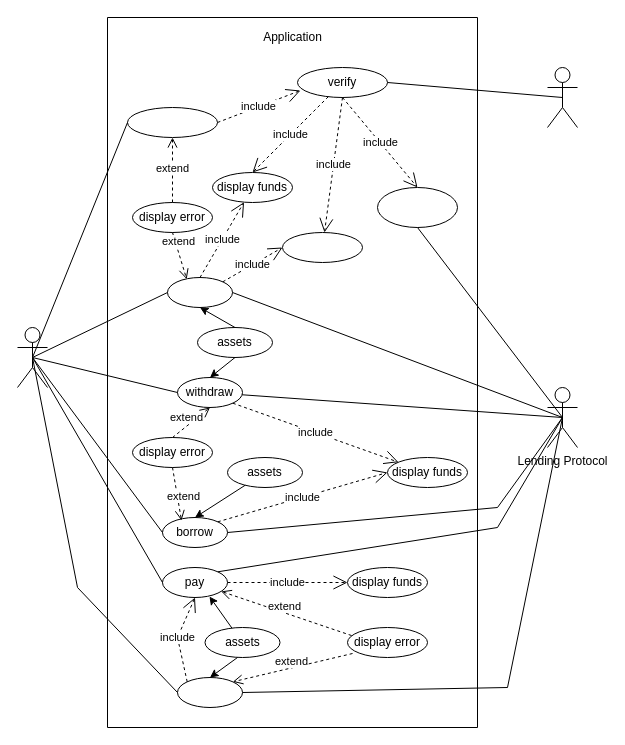
The diagram is 625 pixels wide and 745 high, and some of its shapes have lost their labels. The shapes that lost their labels are listed below. From the top down, each one's centre as x and y in pixels, then its label:
the point at 562,97: Wallet Provider
the point at 172,122: connect wallet
the point at 417,207: display interest rate
the point at 322,247: display earnings
the point at 199,292: deposit
the point at 32,357: User
the point at 209,692: flash loan
